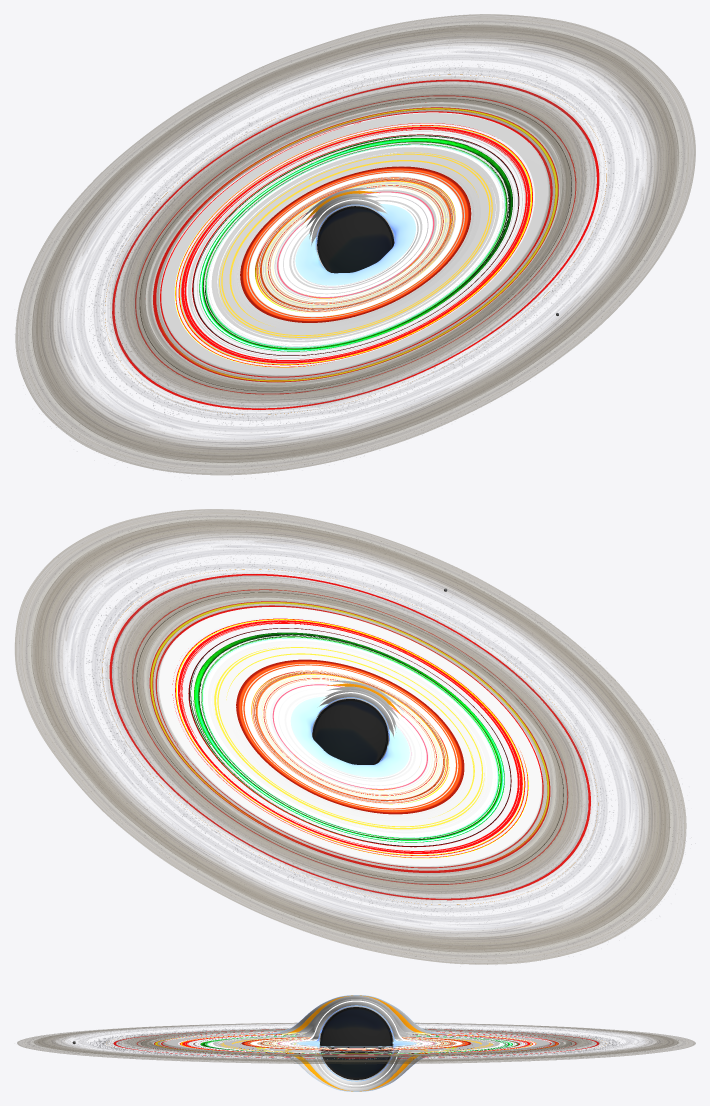
Rendered from black_hole (1).glb.
3 views of the same model, one above another, from view 1: azimuth 30°, elevation 25°; view 2: azimuth 150°, elevation 25°; view 3: azimuth 270°, elevation 25° (orthographic). The views are drawn at different scales.
Visible parts, largest first — view 1: black hole_ring, black hole; view 2: black hole_ring, black hole; view 3: black hole, black hole_ring.
Boxes of the visible parts, x1=… form: black hole_ring: x1=15, y1=14, x2=695, y2=475; black hole: x1=104, y1=74, x2=606, y2=414; black hole_ring: x1=15, y1=509, x2=686, y2=964; black hole: x1=102, y1=569, x2=598, y2=904; black hole: x1=106, y1=995, x2=606, y2=1091; black hole_ring: x1=17, y1=1022, x2=695, y2=1063.
Size of what is drawn, in the model's own units: 3098 by 1220 by 3298.
Materials: 8 (7 with a texture image).
